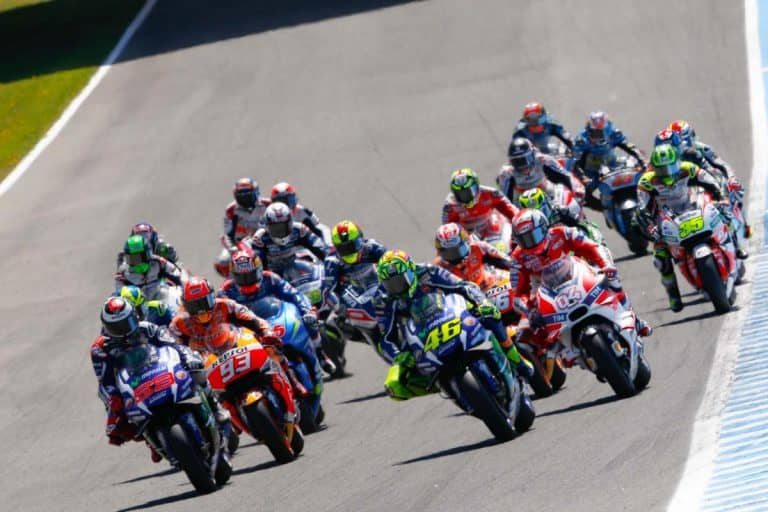helmet: (369, 248, 421, 295), (175, 278, 223, 323), (98, 300, 143, 344), (424, 221, 474, 260), (442, 159, 484, 204), (641, 140, 685, 181), (323, 218, 367, 258), (447, 161, 482, 207), (578, 106, 616, 146), (502, 139, 543, 172), (518, 97, 551, 134), (227, 174, 260, 208)
